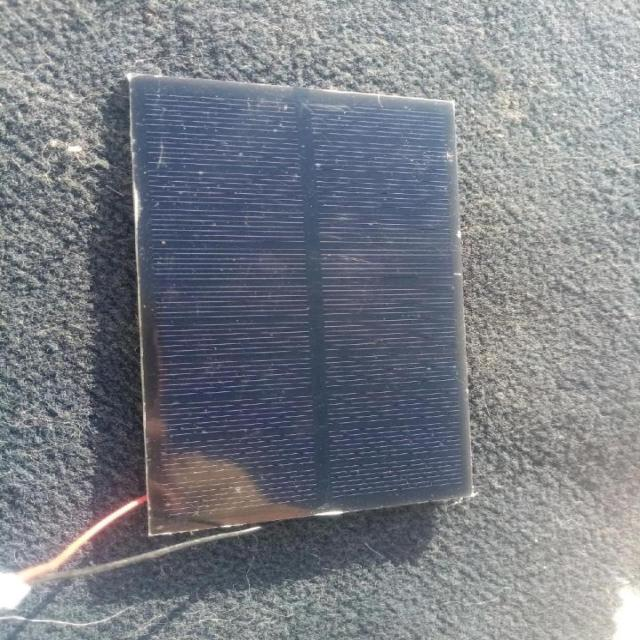no faulty: (144, 87, 480, 515)
